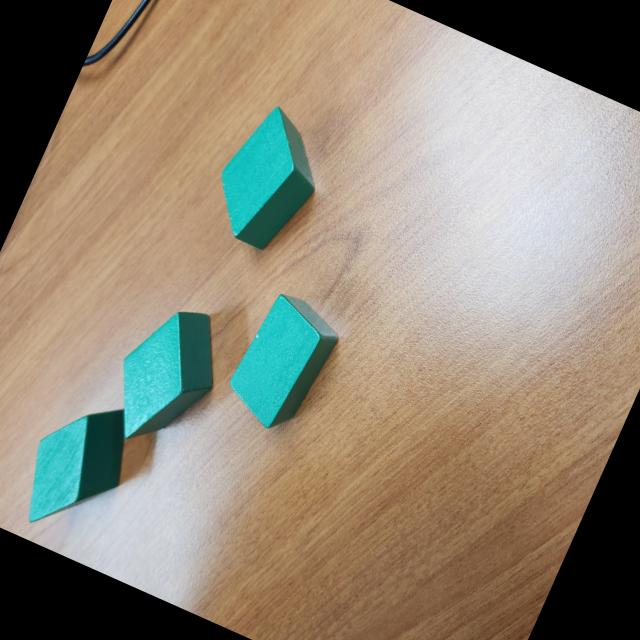green: (93, 290, 240, 464), (6, 381, 150, 553), (197, 95, 341, 262), (218, 287, 346, 441)
